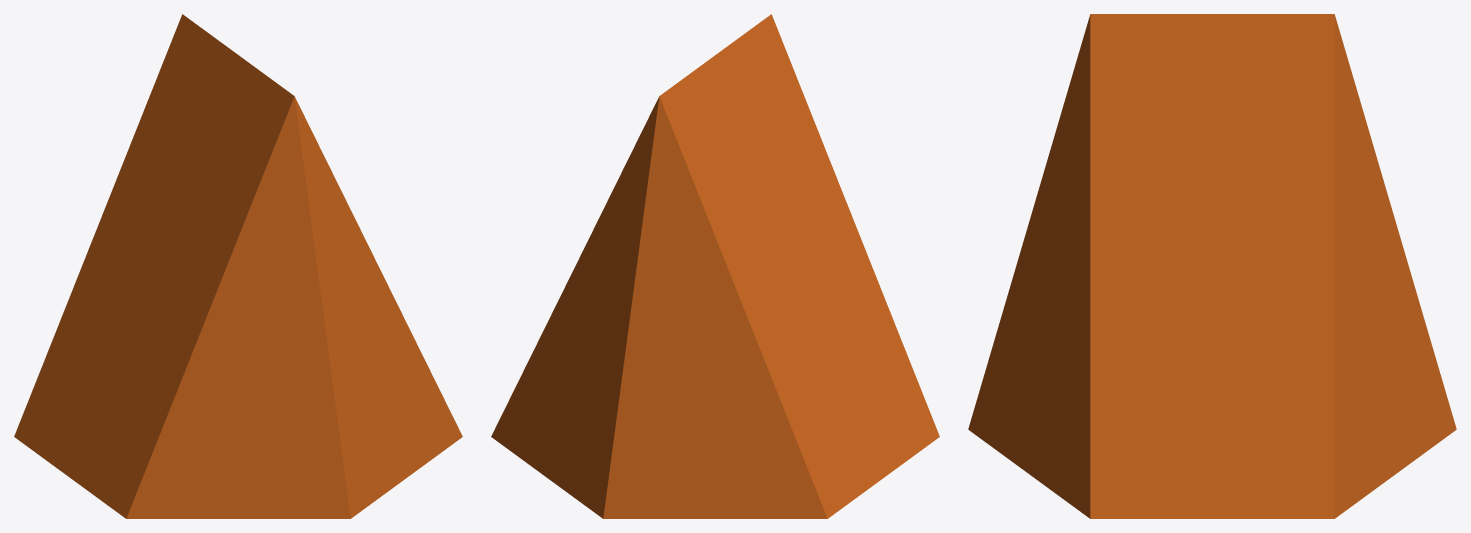
File: RPG_Tiles_Hex_Building_Roof_05.FBX
3 views of the same model, side by side, from view 1: azimuth 30°, elevation 25°; view 2: azimuth 150°, elevation 25°; view 3: azimuth 270°, elevation 25° (orthographic). The views are drawn at different scales.
Parts seen in each view (by area): view 1: RPG_Tiles_Hex_Building_Roof_05; view 2: RPG_Tiles_Hex_Building_Roof_05; view 3: RPG_Tiles_Hex_Building_Roof_05.
Part boxes in pixels (x1,y1,x2,y2): RPG_Tiles_Hex_Building_Roof_05: [14, 14, 462, 518]; RPG_Tiles_Hex_Building_Roof_05: [491, 14, 939, 518]; RPG_Tiles_Hex_Building_Roof_05: [968, 14, 1456, 518].
Size of the model in its own units: 3000 by 3251 by 3464.
